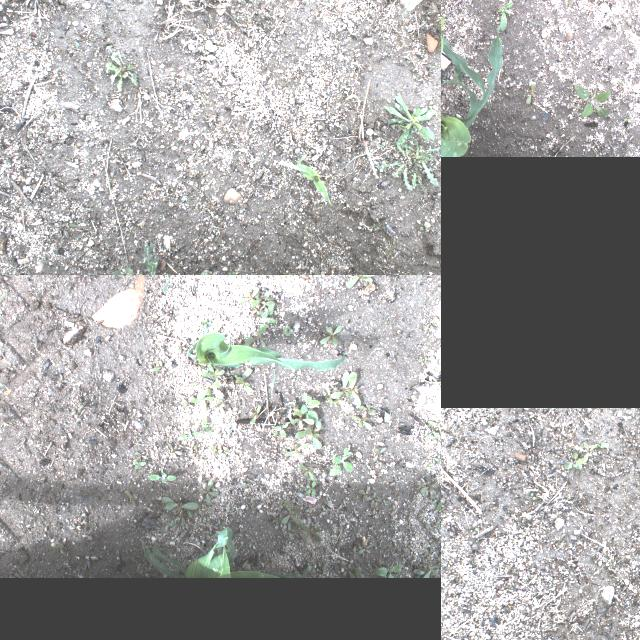crop: (186, 316, 344, 402), (441, 34, 501, 155), (142, 527, 280, 577), (279, 153, 333, 204), (164, 275, 260, 292)
weed: (373, 137, 441, 192), (382, 92, 436, 144), (109, 240, 177, 275), (105, 48, 136, 92), (572, 85, 612, 117), (332, 371, 361, 407), (162, 497, 198, 523), (413, 547, 441, 577), (295, 420, 323, 448), (330, 446, 352, 476), (578, 441, 610, 461), (417, 472, 438, 500), (280, 500, 302, 526), (300, 393, 320, 421), (495, 0, 512, 30), (148, 466, 176, 484), (196, 380, 224, 398), (398, 0, 421, 21), (260, 304, 276, 334), (290, 408, 314, 428), (250, 290, 276, 308), (200, 480, 217, 506), (320, 324, 342, 344), (374, 563, 404, 577), (345, 275, 375, 288), (190, 396, 214, 412), (239, 286, 259, 302), (302, 526, 322, 542), (425, 414, 441, 434), (202, 364, 224, 378), (298, 464, 316, 481), (237, 376, 253, 394), (284, 444, 308, 456), (272, 422, 290, 438), (152, 359, 172, 373), (352, 415, 372, 429), (164, 516, 180, 532), (340, 562, 356, 578), (566, 452, 582, 468), (527, 82, 537, 106), (202, 416, 214, 436), (177, 430, 201, 440), (366, 492, 382, 506), (209, 445, 227, 457), (125, 490, 137, 508), (234, 368, 252, 380), (250, 404, 260, 424), (51, 542, 65, 556), (168, 444, 182, 458), (296, 565, 312, 577), (358, 542, 374, 554), (256, 328, 266, 347), (425, 426, 439, 439), (213, 398, 224, 414), (180, 396, 193, 409), (54, 374, 68, 386), (424, 317, 438, 329), (428, 453, 440, 467), (284, 522, 294, 538), (306, 480, 316, 496), (418, 354, 434, 364), (374, 446, 386, 459), (213, 523, 224, 537), (326, 386, 334, 404), (133, 459, 147, 469), (348, 546, 358, 560), (359, 404, 376, 412), (186, 440, 194, 456), (321, 558, 327, 578), (284, 324, 294, 336), (332, 398, 346, 406), (358, 490, 369, 500), (69, 218, 79, 228), (192, 445, 202, 455), (200, 317, 210, 327), (390, 476, 400, 486), (193, 359, 204, 368), (70, 523, 82, 531), (178, 340, 186, 352), (272, 514, 280, 526), (244, 337, 252, 347), (431, 538, 441, 546), (529, 490, 537, 500), (197, 269, 210, 275), (135, 452, 147, 458), (251, 305, 259, 313), (70, 409, 76, 419), (201, 456, 211, 462), (355, 567, 361, 577), (435, 514, 441, 524), (373, 502, 377, 516), (426, 524, 440, 528), (622, 116, 628, 125), (372, 222, 380, 228), (420, 224, 428, 230), (616, 76, 622, 84), (192, 382, 200, 388), (148, 364, 154, 372), (472, 526, 478, 534), (437, 358, 441, 368), (230, 375, 234, 385), (628, 410, 632, 420), (379, 142, 385, 148), (540, 143, 546, 149), (228, 270, 235, 275), (567, 0, 572, 5), (203, 517, 209, 521), (455, 432, 459, 438), (78, 406, 82, 410), (383, 500, 387, 504), (636, 414, 640, 418)
